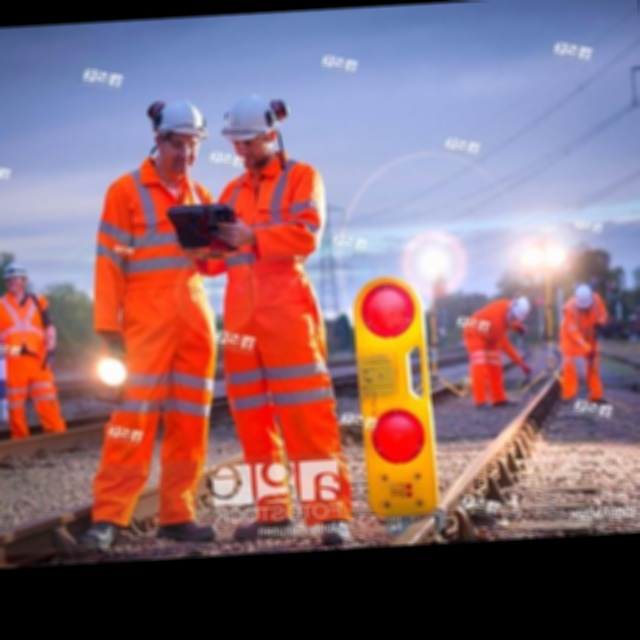Con_Casco: (150, 95, 209, 165), (223, 92, 285, 158)
Con_Chaleco: (89, 164, 211, 292), (214, 158, 319, 294), (0, 290, 48, 365), (459, 299, 511, 358)
